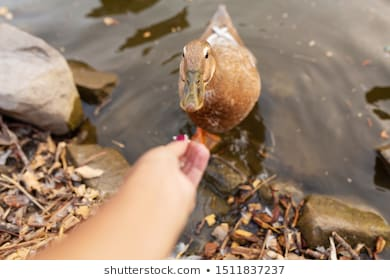duck: (167, 3, 274, 142)
